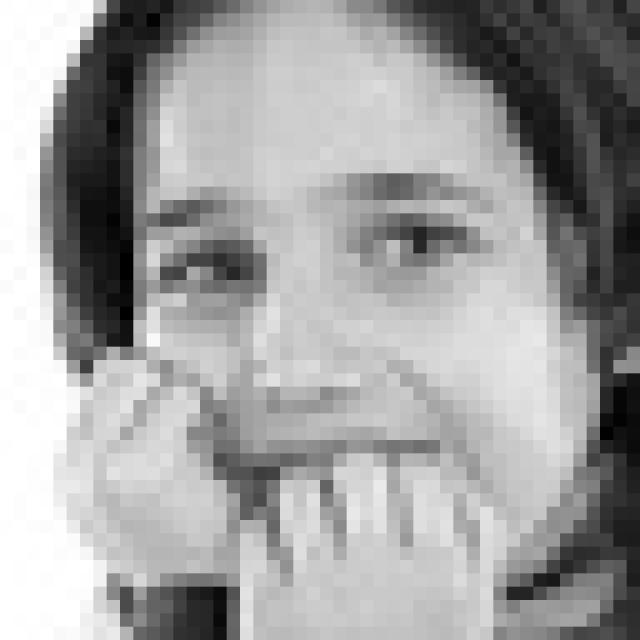fear: (144, 162, 530, 527)
